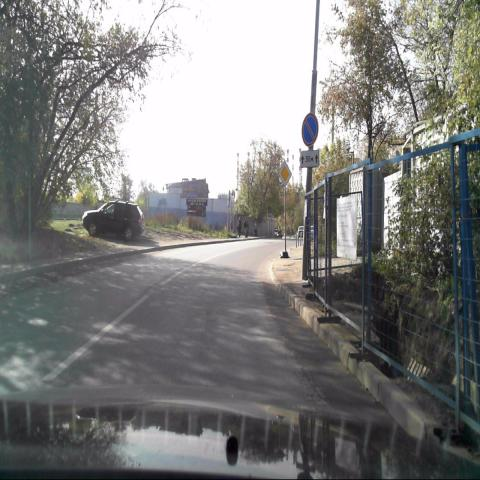2_1: (278, 158, 292, 189)
